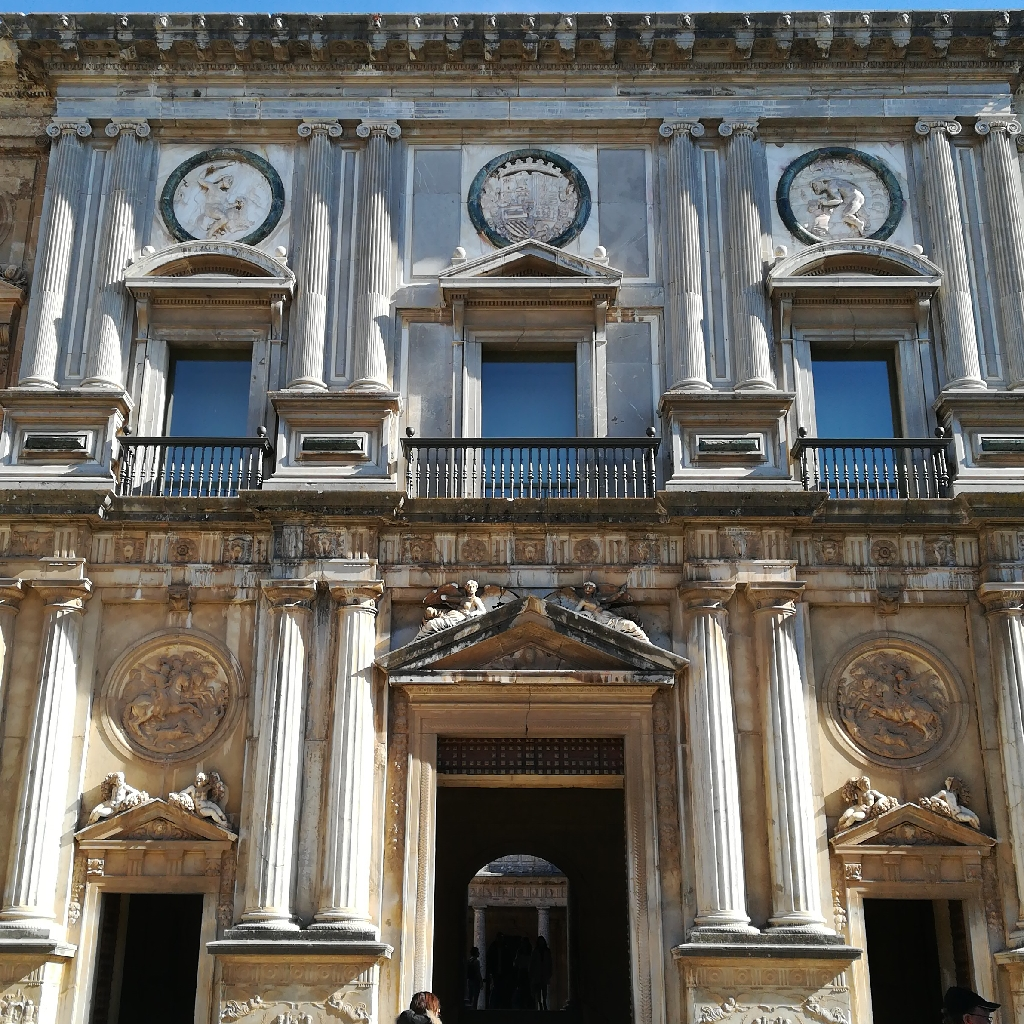fronton: (370, 595, 697, 692), (435, 237, 631, 294), (70, 796, 238, 856), (829, 801, 998, 860)
fronton-curvo: (118, 236, 302, 297), (767, 238, 951, 292)
vano-adintelado: (397, 698, 667, 1024), (127, 319, 275, 497), (788, 320, 933, 496), (460, 319, 602, 497), (70, 869, 224, 1024), (843, 876, 997, 1024)
